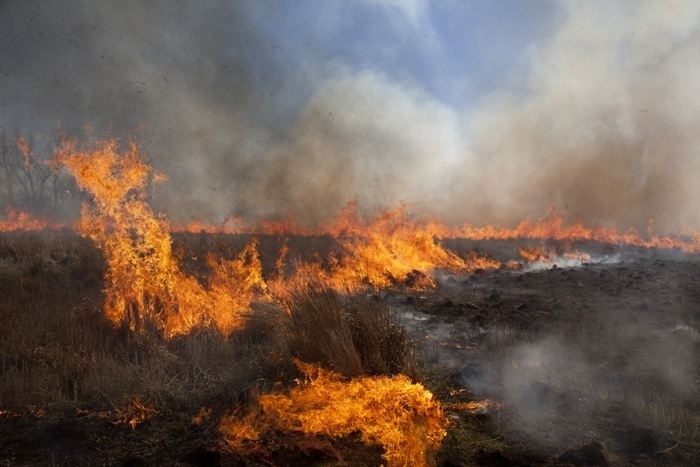fire: (210, 354, 455, 461)
